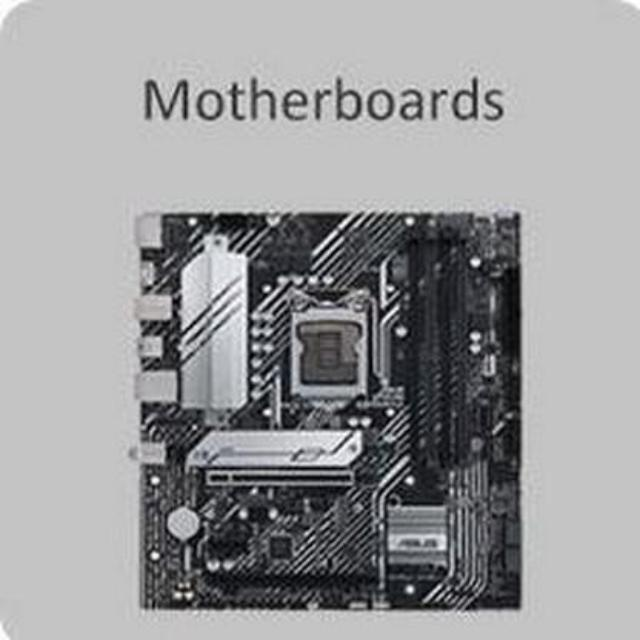Mainboard: (120, 200, 531, 626)
